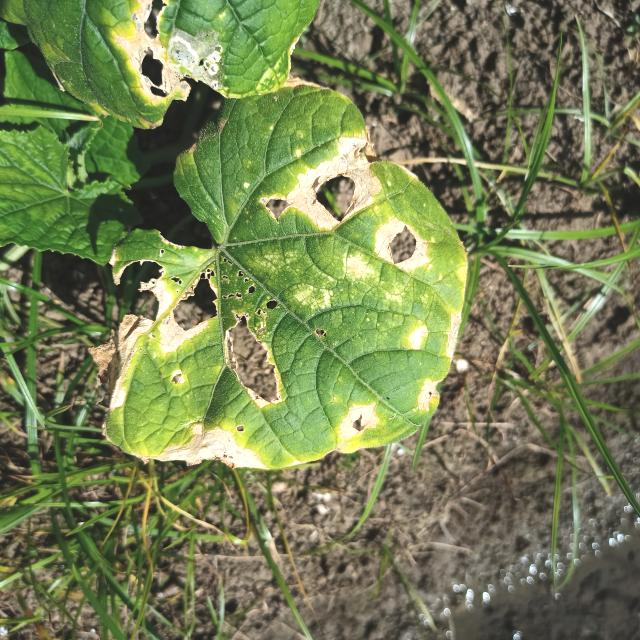disease_cucumber: (99, 131, 462, 466), (115, 0, 198, 107)
